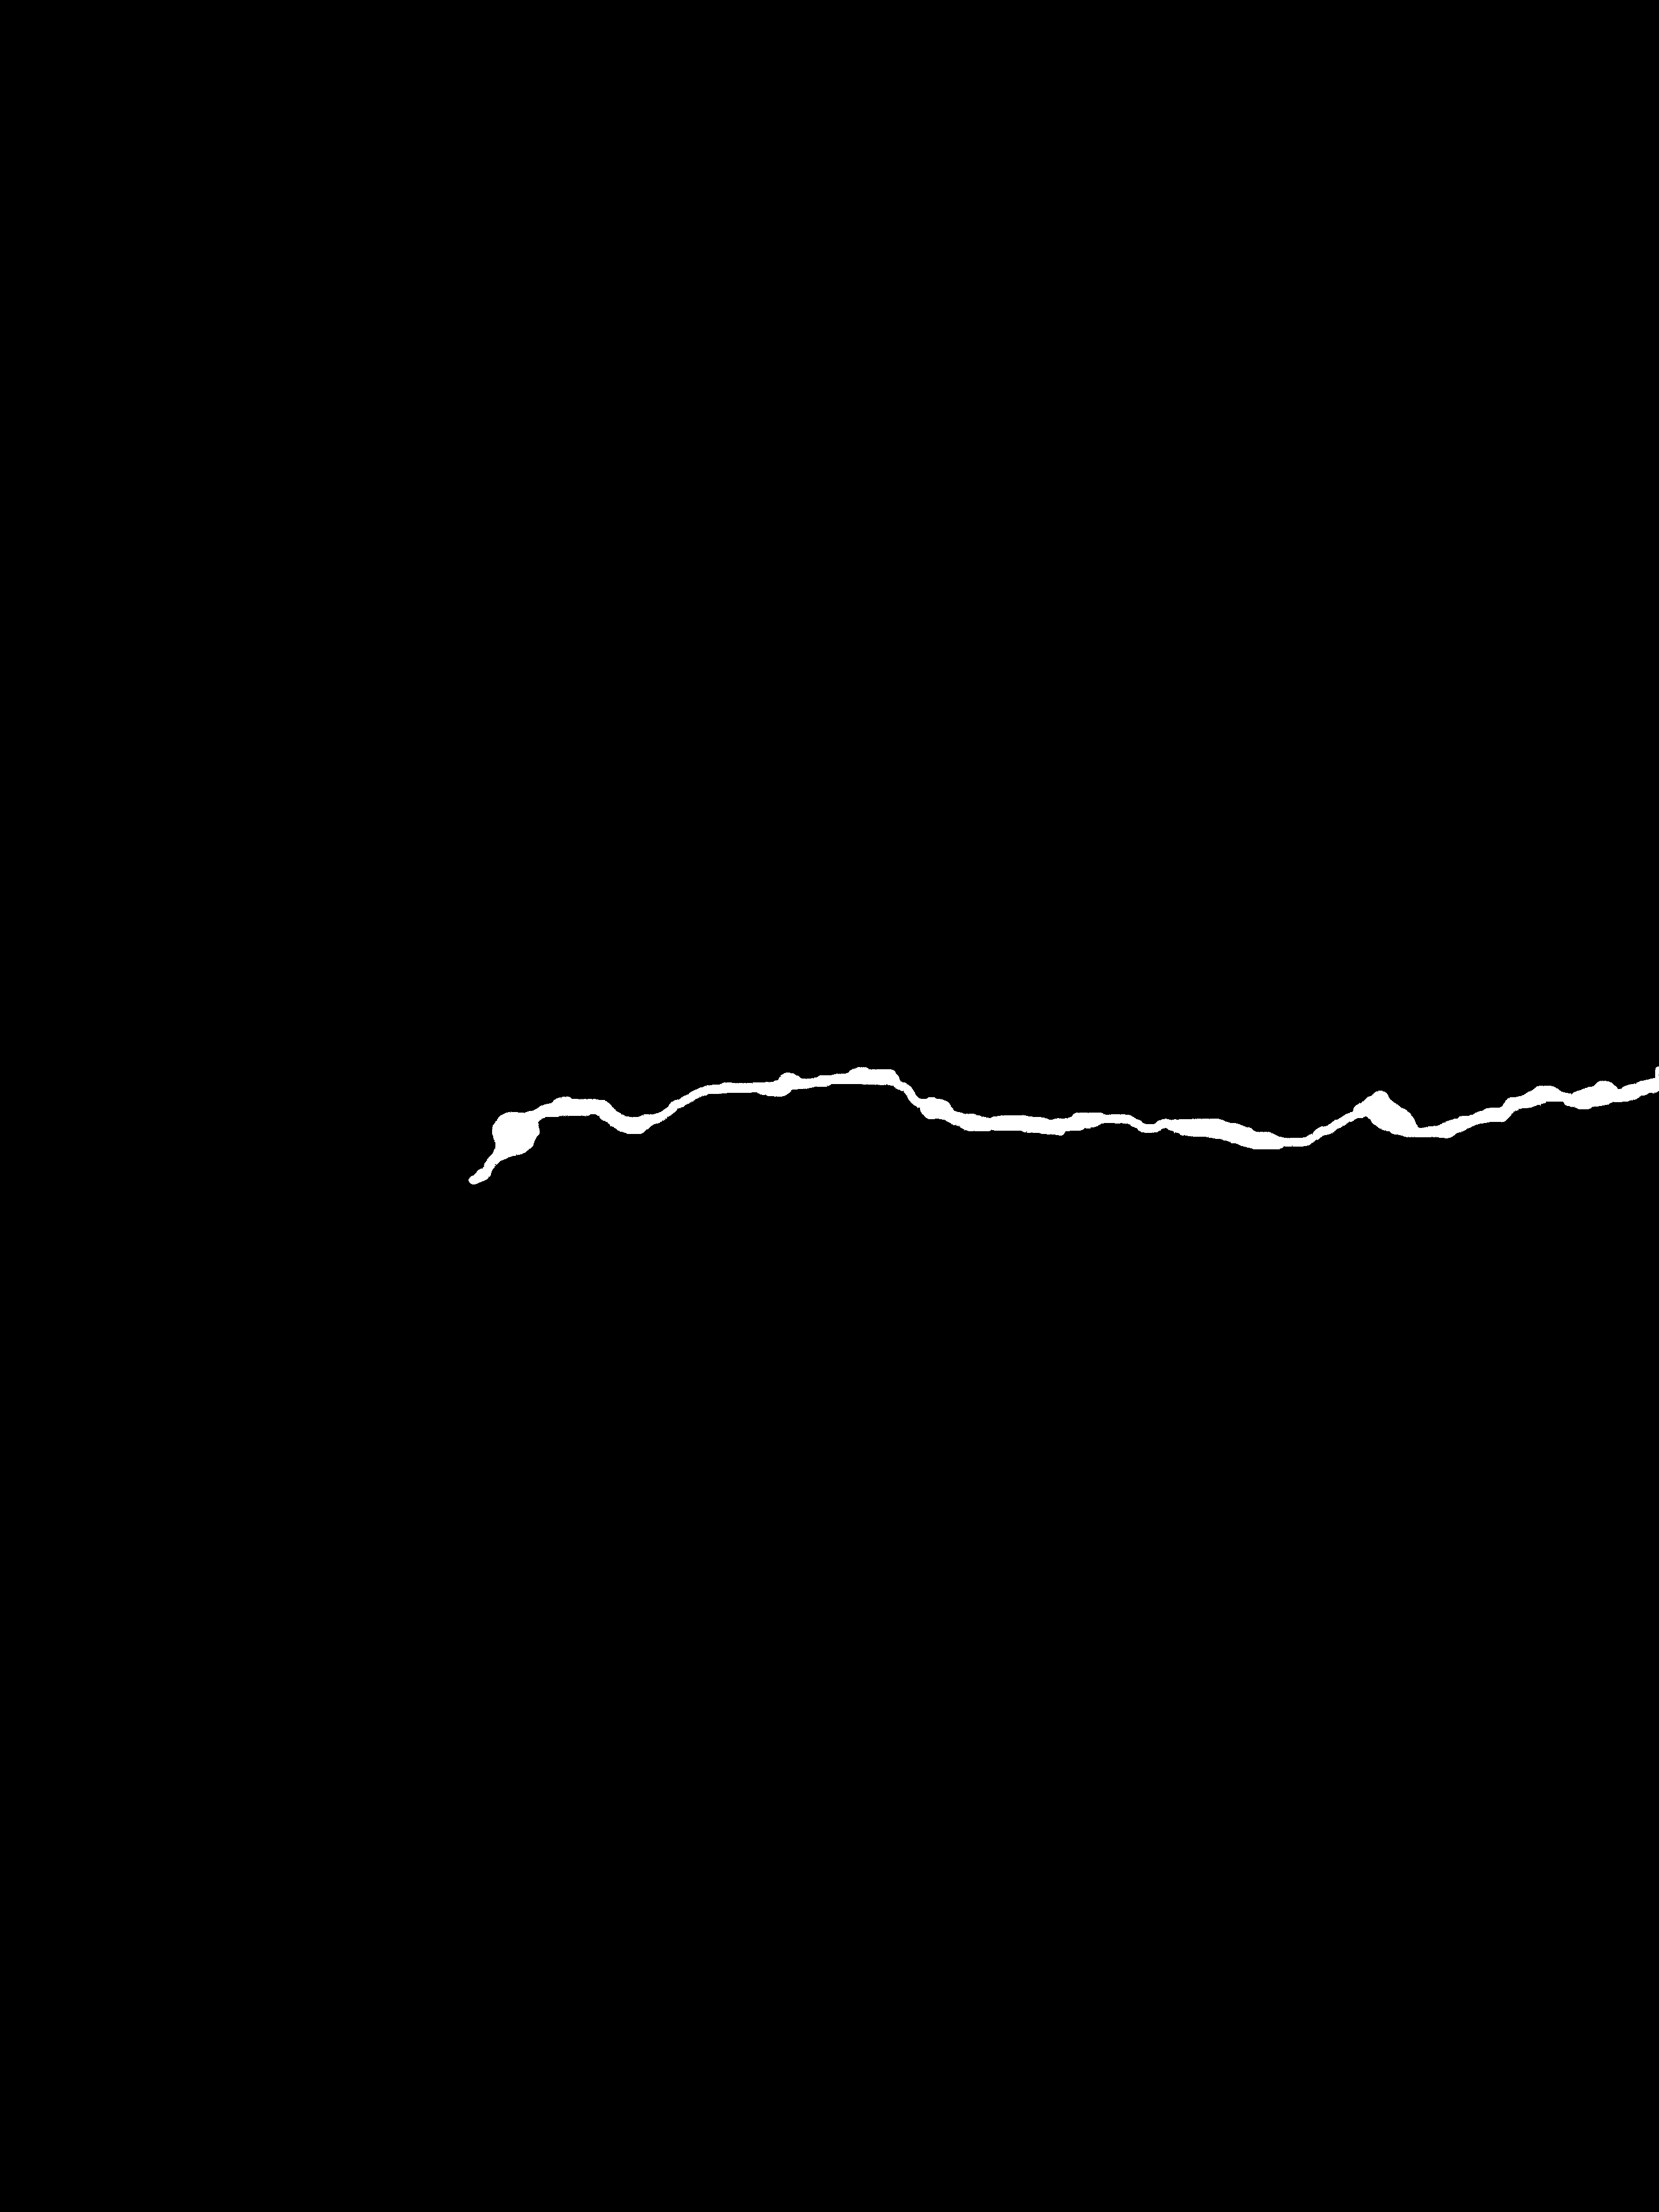Crack: (453, 1028, 1659, 1174)
